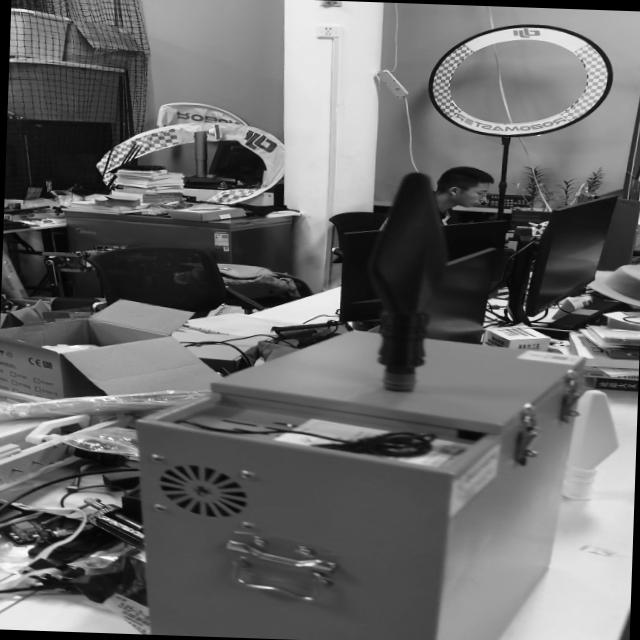base: (382, 370, 419, 392)
